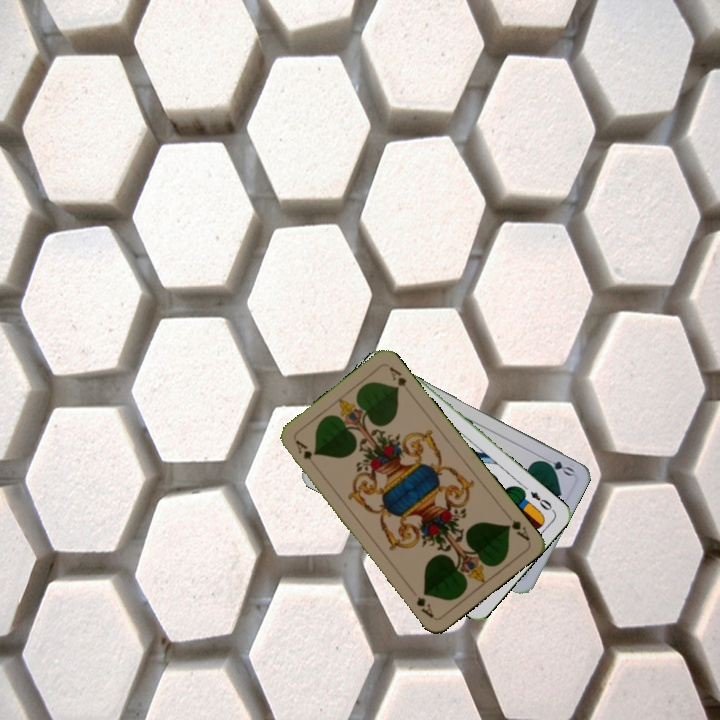EO: (526, 487, 554, 513)
GA: (502, 516, 532, 543), (291, 436, 315, 463)
GO: (536, 453, 577, 479)
